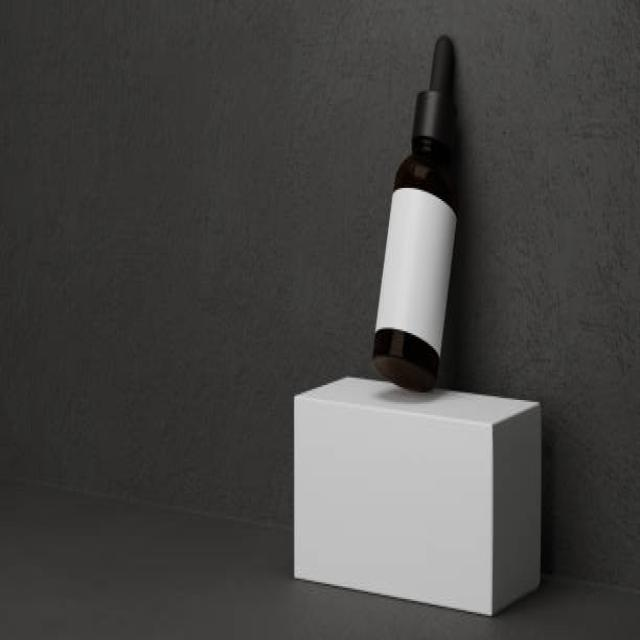plastic_bottle: (359, 12, 475, 405)
